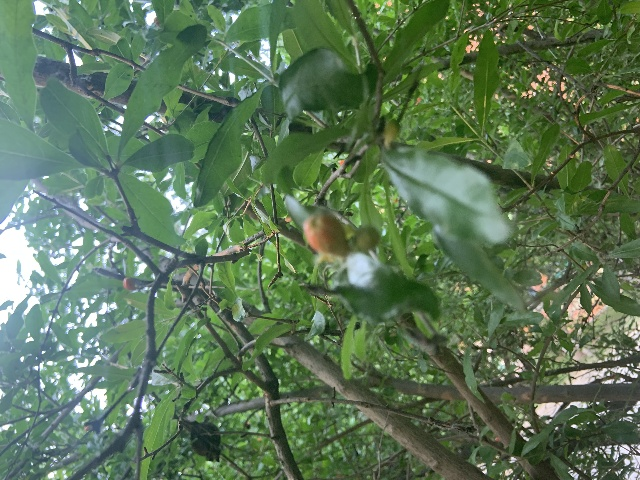bud: (303, 213, 350, 260)
